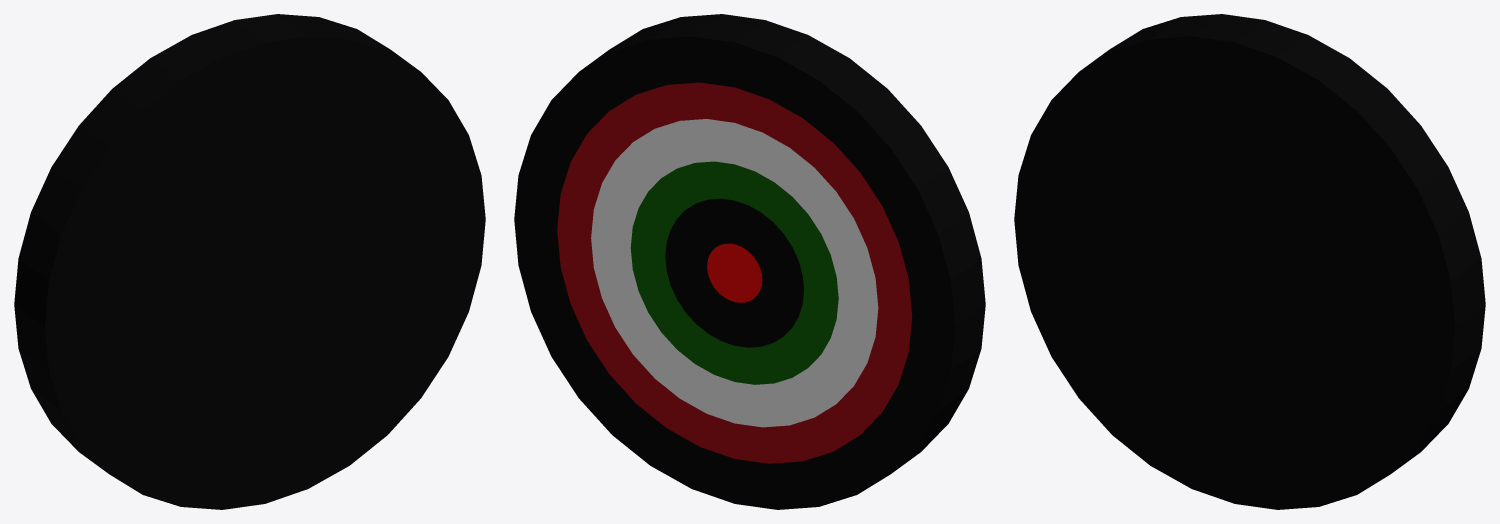
Rendered from point.fbx.
The picture shows the model from 3 angles, left to right: view 1: azimuth 30°, elevation 25°; view 2: azimuth 150°, elevation 25°; view 3: azimuth 330°, elevation 25°; orthographic projection.
Parts seen in each view (by area): view 1: Cylinder; view 2: Cylinder; view 3: Cylinder.
Part boxes in pixels (left/top/right/bottom): Cylinder: left=14, top=14, right=485, bottom=509; Cylinder: left=514, top=14, right=985, bottom=509; Cylinder: left=1014, top=14, right=1485, bottom=509.
Bounding box in the file's own units: 200 × 200 × 24.
